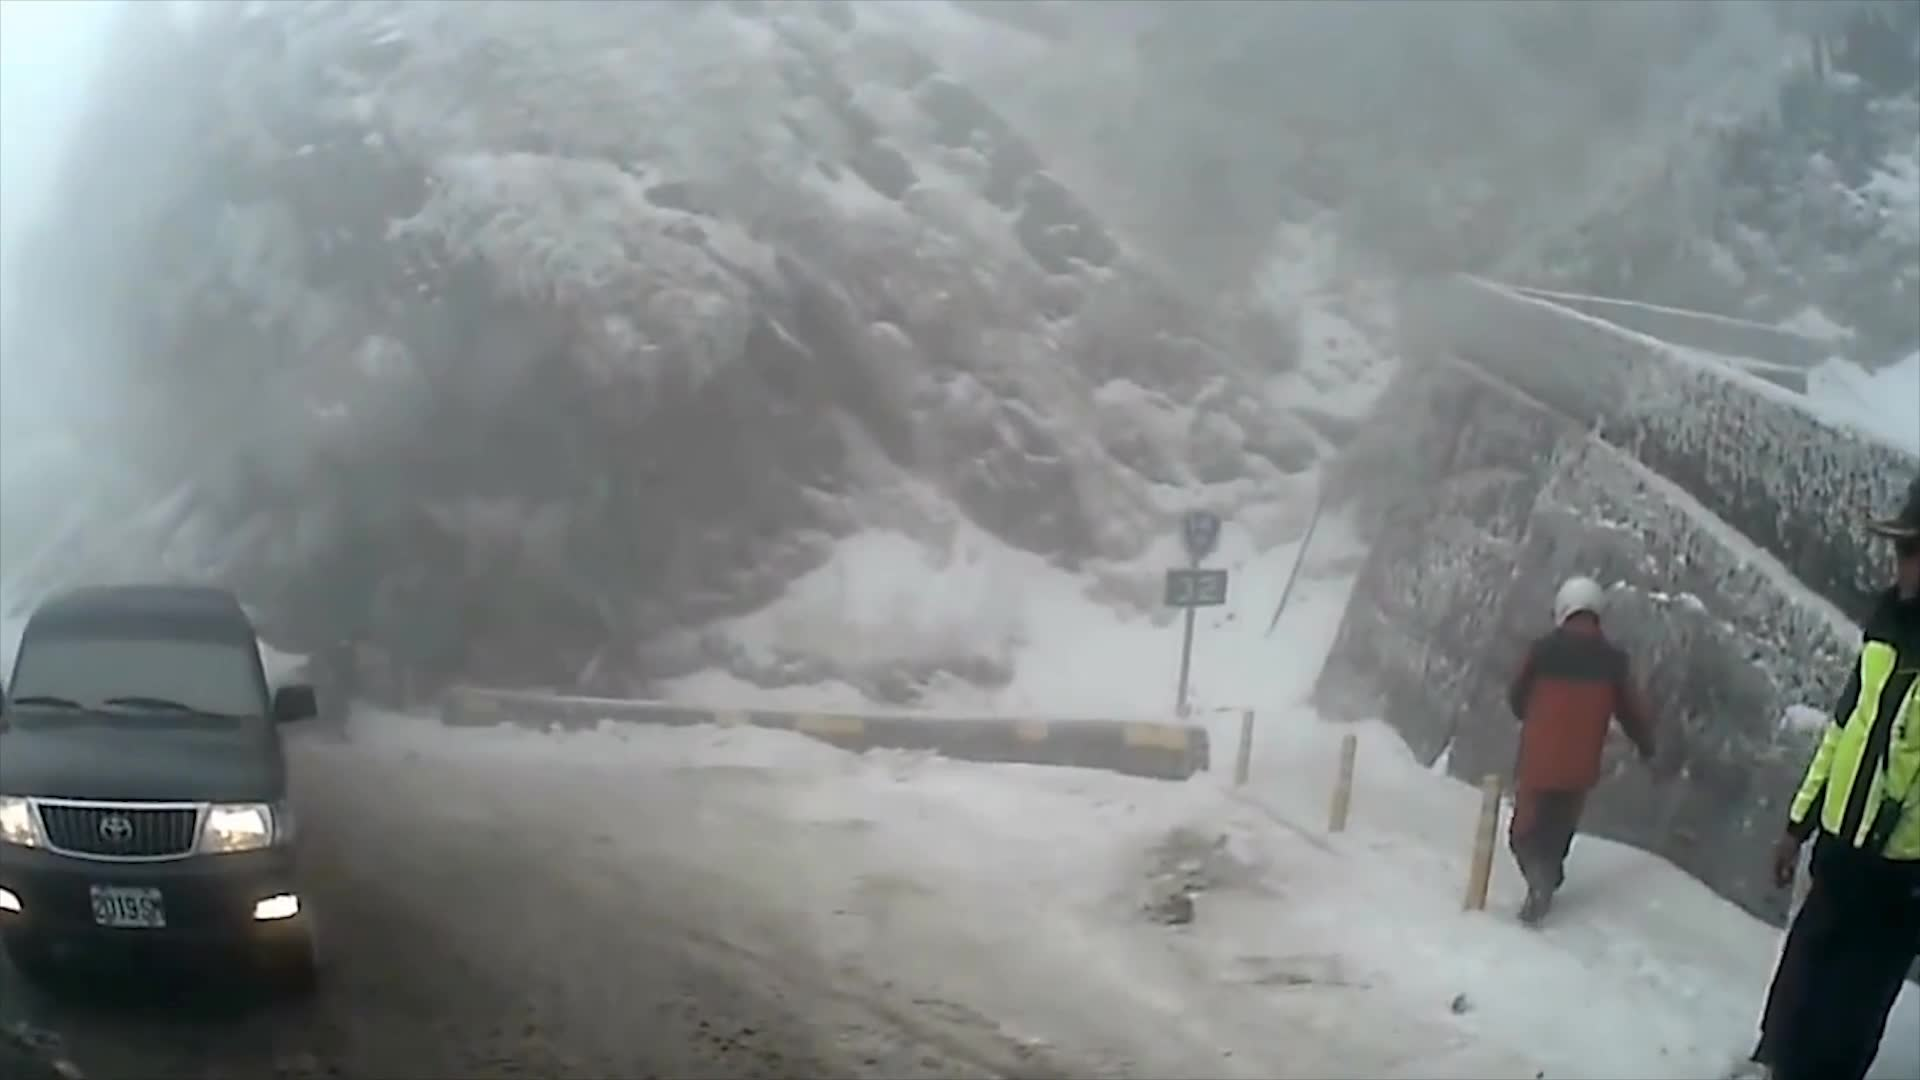pedestrian: (1735, 498, 1920, 1080), (1508, 569, 1650, 926)
vehicle: (0, 584, 326, 990)
